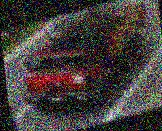truck: (6, 0, 162, 127)
